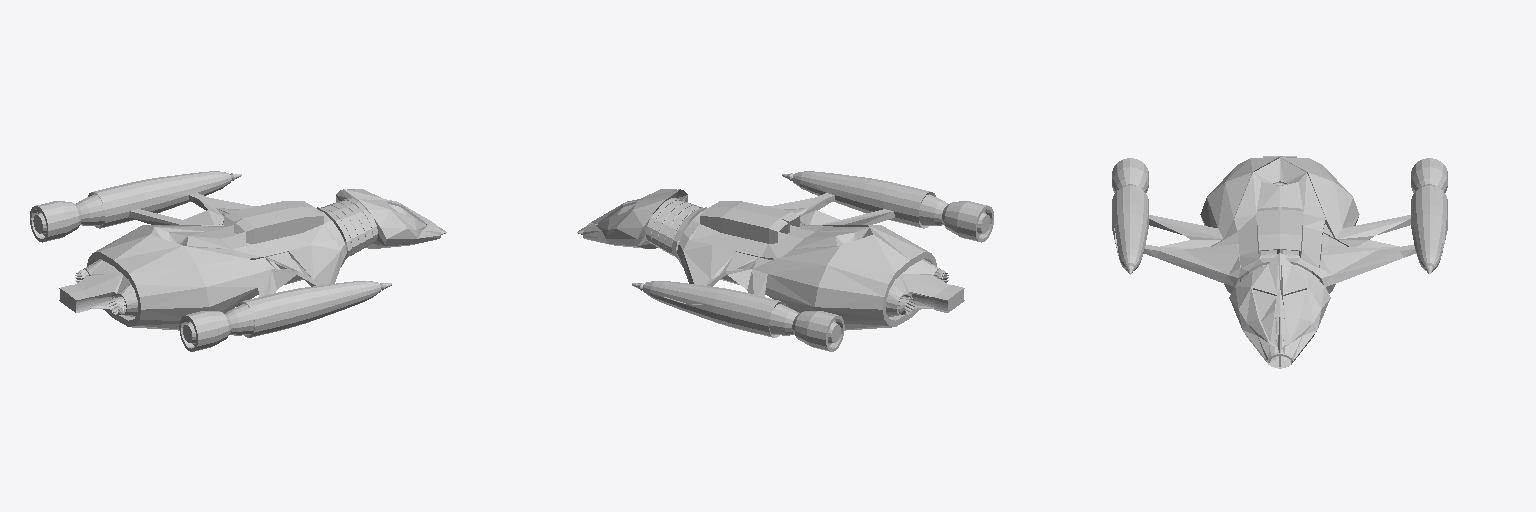
Rendered from ship_2.obj.
The picture shows the model from 3 angles: view 1: azimuth 30°, elevation 25°; view 2: azimuth 150°, elevation 25°; view 3: azimuth 270°, elevation 25°; orthographic projection.
Visible parts, largest first — view 1: Cylinder1; view 2: Cylinder1; view 3: Cylinder1.
Boxes of the visible parts, <box> form: Cylinder1: <box>30,171,446,351</box>; Cylinder1: <box>577,171,993,351</box>; Cylinder1: <box>1112,156,1447,368</box>.
Bounding box in the file's own units: 5.24 × 1.26 × 4.06.